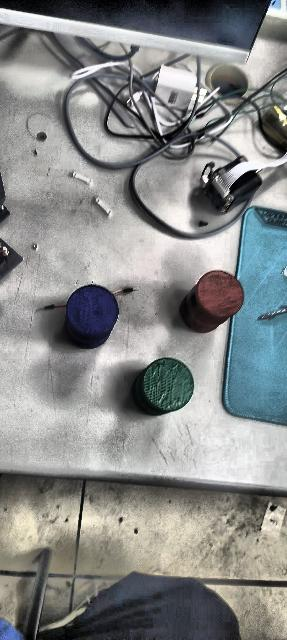blue: (64, 284, 119, 348)
green: (132, 356, 194, 416)
red: (176, 268, 244, 336)
